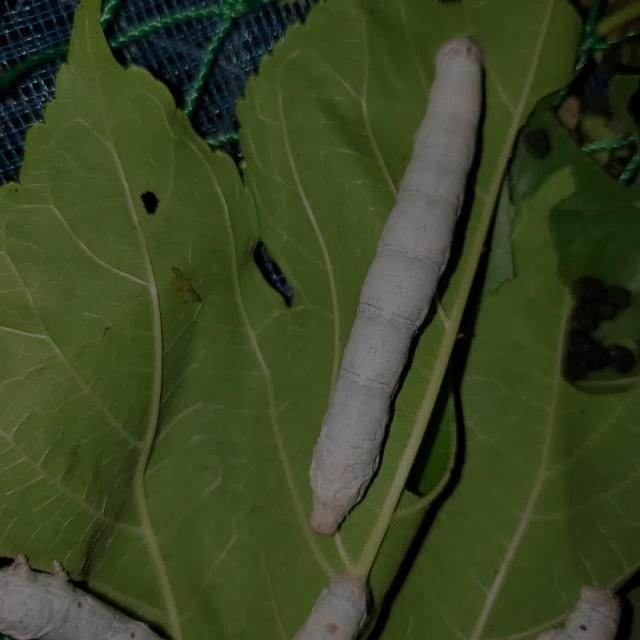Healthy: (302, 37, 502, 544)
